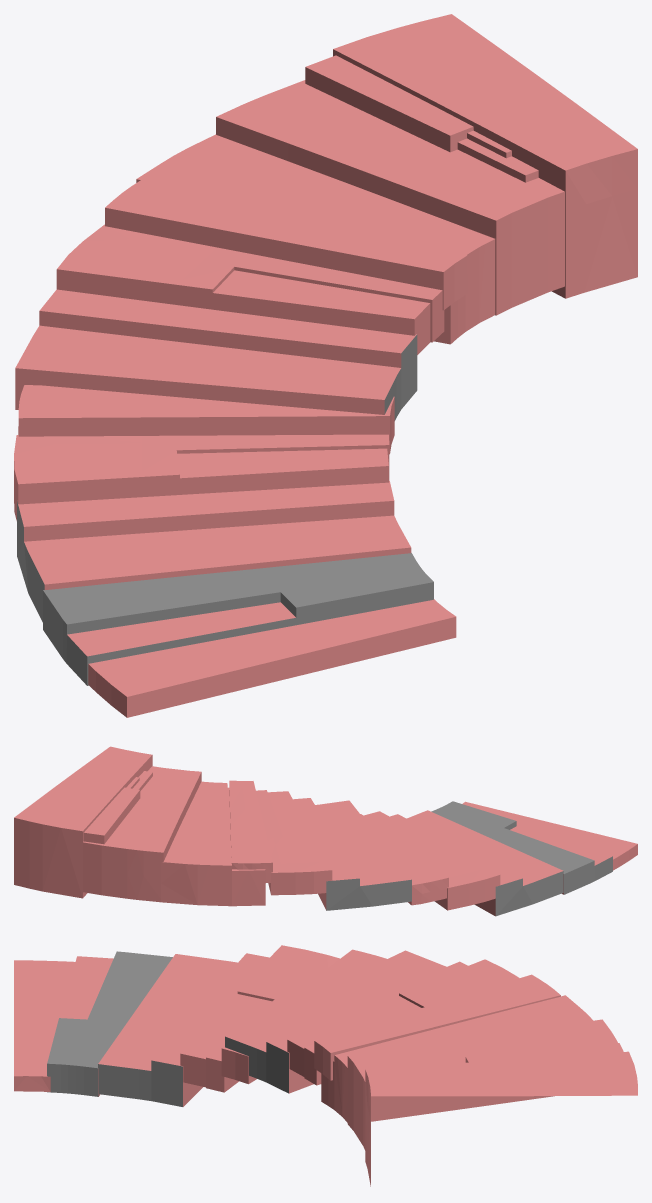
The model's file is S_Envi_Train_Building_Merge_05b.gltf.
The picture shows the model from 3 angles, top to bottom: view 1: azimuth 30°, elevation 25°; view 2: azimuth 150°, elevation 25°; view 3: azimuth 270°, elevation 25°; orthographic projection. The views are drawn at different scales.
Visible parts, largest first — view 1: S_Envi_Train_Building_Merge_05b; view 2: S_Envi_Train_Building_Merge_05b; view 3: S_Envi_Train_Building_Merge_05b.
Boxes of the visible parts, bbox=[...] form: S_Envi_Train_Building_Merge_05b: bbox=[14, 14, 637, 717]; S_Envi_Train_Building_Merge_05b: bbox=[14, 746, 637, 916]; S_Envi_Train_Building_Merge_05b: bbox=[14, 945, 637, 1186].
Bounding box in the file's own units: 13.99 × 3.59 × 13.81.
